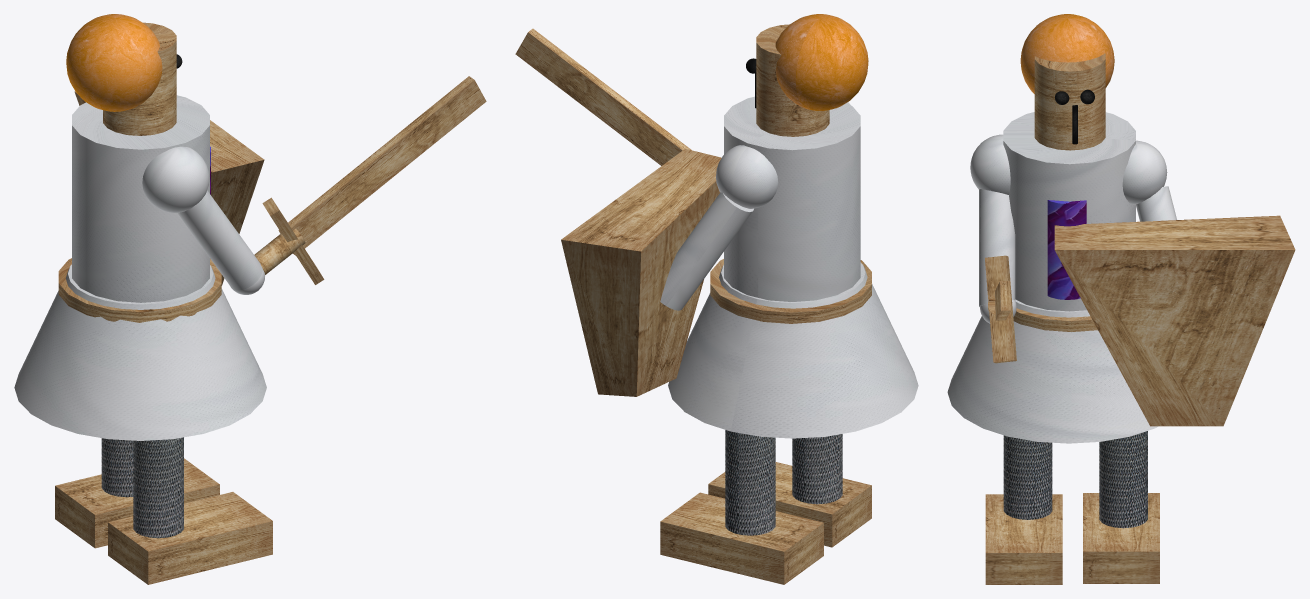
The model's file is GUERRERO_NIVEL_1.fbx.
3 views of the same model, side by side, from view 1: azimuth 30°, elevation 25°; view 2: azimuth 150°, elevation 25°; view 3: azimuth 270°, elevation 25° (orthographic). The views are drawn at different scales.
Parts seen in each view (by area): view 1: Cone001, Cylinder003, Box001, Sphere020, Box007, Cylinder001, Box002, Cylinder010, Box011, Cylinder004, Sphere001, Cylinder005 (+3 smaller); view 2: Cone001, Box011, Cylinder003, Box002, Sphere020, Box007, Cylinder002, Cylinder017, Box001, Cylinder004, Cylinder001, Cylinder005 (+1 smaller); view 3: Box011, Cone001, Cylinder003, Box001, Cylinder004, Box002, Cylinder002, Sphere020, Cylinder001, Cylinder010, Cylinder019, Sphere019 (+5 smaller).
Boxes of the visible parts, left/top/right/bottom form: Cone001: left=14, top=264, right=266, bottom=440; Cylinder003: left=72, top=95, right=209, bottom=302; Box001: left=108, top=492, right=272, bottom=584; Sphere020: left=66, top=14, right=162, bottom=111; Box007: left=278, top=76, right=486, bottom=255; Cylinder001: left=133, top=437, right=183, bottom=538; Box002: left=55, top=458, right=219, bottom=548; Cylinder010: left=177, top=190, right=262, bottom=290; Box011: left=74, top=91, right=264, bottom=285; Cylinder004: left=103, top=22, right=176, bottom=135; Sphere001: left=142, top=146, right=209, bottom=212; Cylinder005: left=58, top=258, right=221, bottom=322; Cone001: left=668, top=262, right=918, bottom=438; Box011: left=561, top=148, right=721, bottom=396; Cylinder003: left=724, top=96, right=860, bottom=301; Box002: left=660, top=492, right=823, bottom=584; Sphere020: left=775, top=14, right=868, bottom=110; Box007: left=515, top=28, right=691, bottom=165; Cylinder002: left=725, top=430, right=775, bottom=535; Cylinder017: left=660, top=192, right=753, bottom=310; Box001: left=708, top=462, right=871, bottom=547; Cylinder004: left=756, top=24, right=829, bottom=136; Cylinder001: left=792, top=434, right=842, bottom=504; Cylinder005: left=710, top=259, right=871, bottom=323; Box011: left=1054, top=215, right=1295, bottom=426; Cone001: left=947, top=299, right=1158, bottom=443; Cylinder003: left=1003, top=112, right=1135, bottom=311; Box001: left=985, top=494, right=1062, bottom=584; Cylinder004: left=1034, top=53, right=1105, bottom=150; Box002: left=1083, top=493, right=1159, bottom=583; Cylinder002: left=1099, top=431, right=1147, bottom=528; Sphere020: left=1020, top=14, right=1114, bottom=93; Cylinder001: left=1003, top=435, right=1052, bottom=519; Cylinder010: left=979, top=189, right=1015, bottom=306; Cylinder019: left=1047, top=200, right=1086, bottom=299; Sphere019: left=1122, top=140, right=1167, bottom=204.
Size of the model in its own units: 0.3809 by 0.4618 by 0.2842.
Materials: 6 (6 with a texture image).
